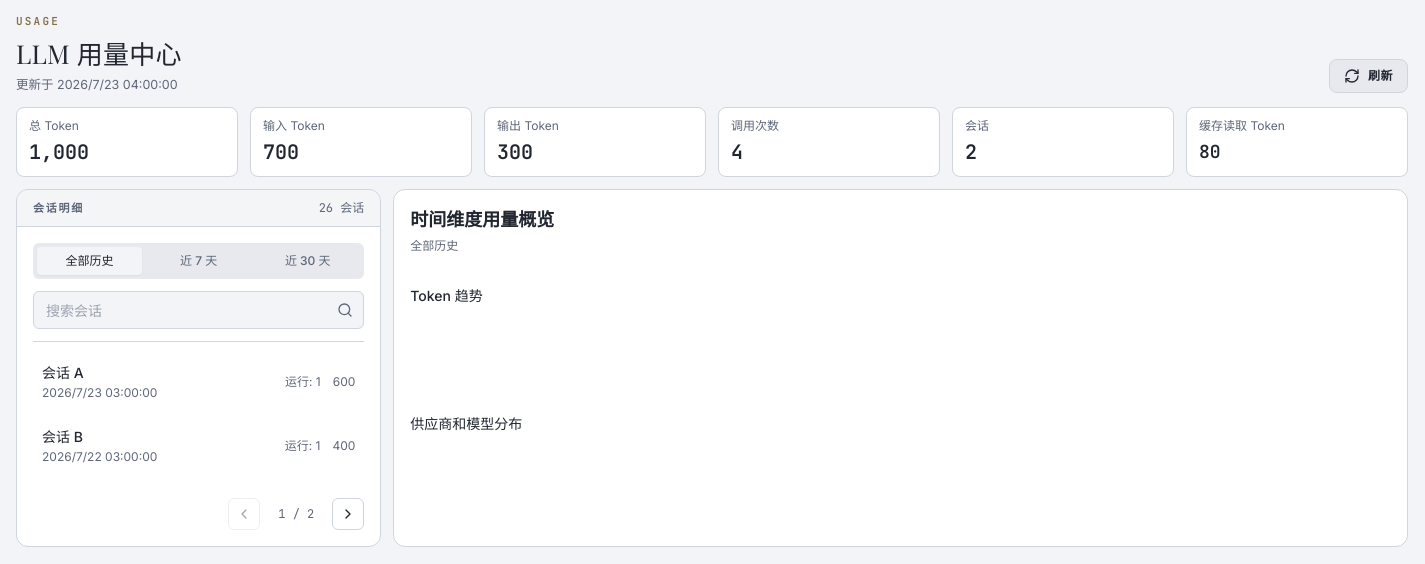
Usage › switches the detail surface when a session is selected
Click the button "会话 A 2026/7/23 03:00:00 运行: 1 600": click(63, 373) x1=33 y1=350 x2=364 y2=414
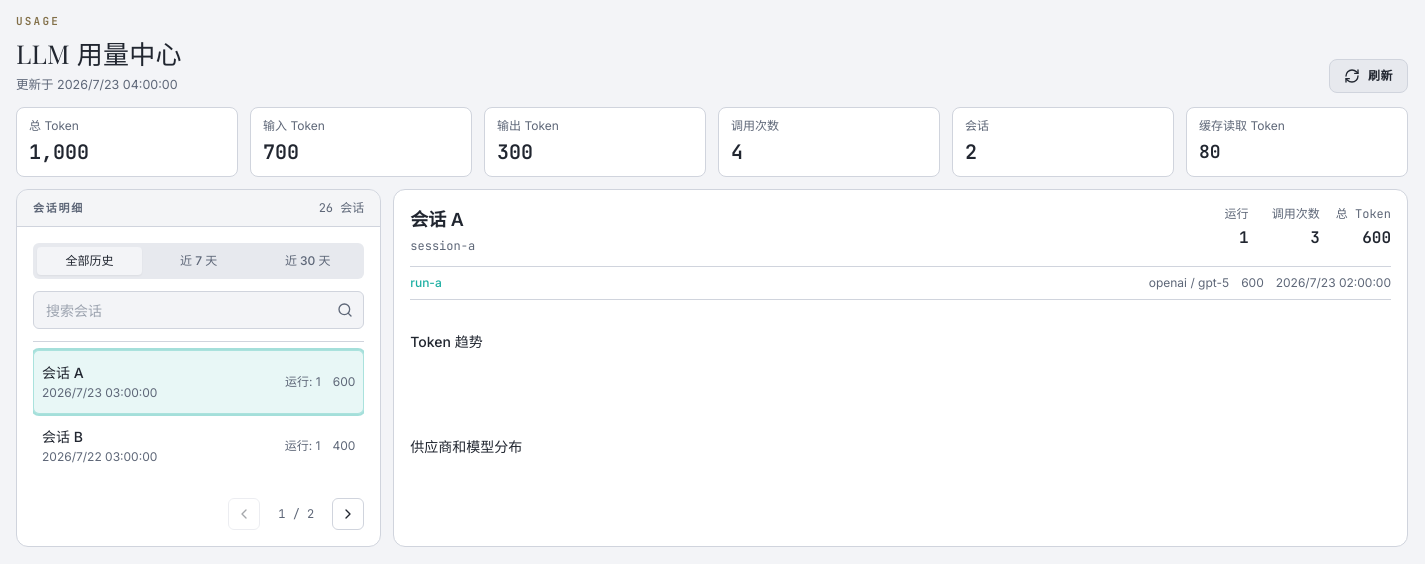
Expected: the link "run-a" is shown, x1=410 y1=275 x2=442 y2=291
Click the button "会话 B 2026/7/22 03:00:00 运行: 1 400": click(62, 437) x1=33 y1=414 x2=364 y2=478
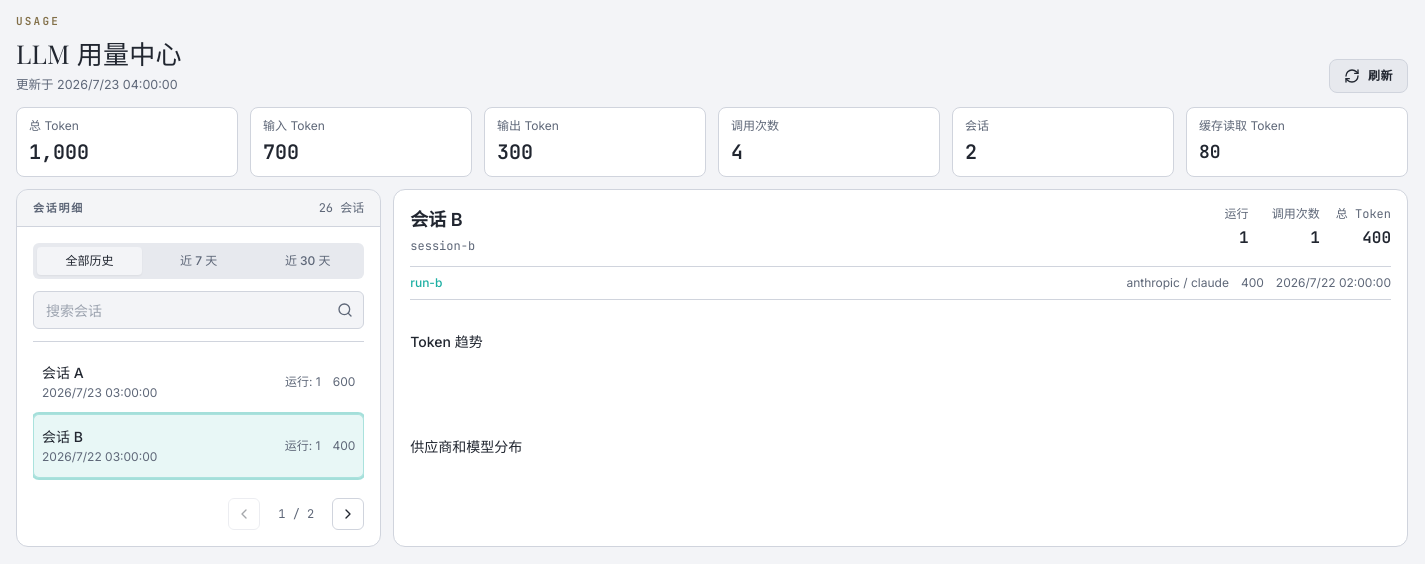
Expected: the link "run-b" is shown, x1=410 y1=275 x2=442 y2=291
Expected: the link "run-a" is gone
